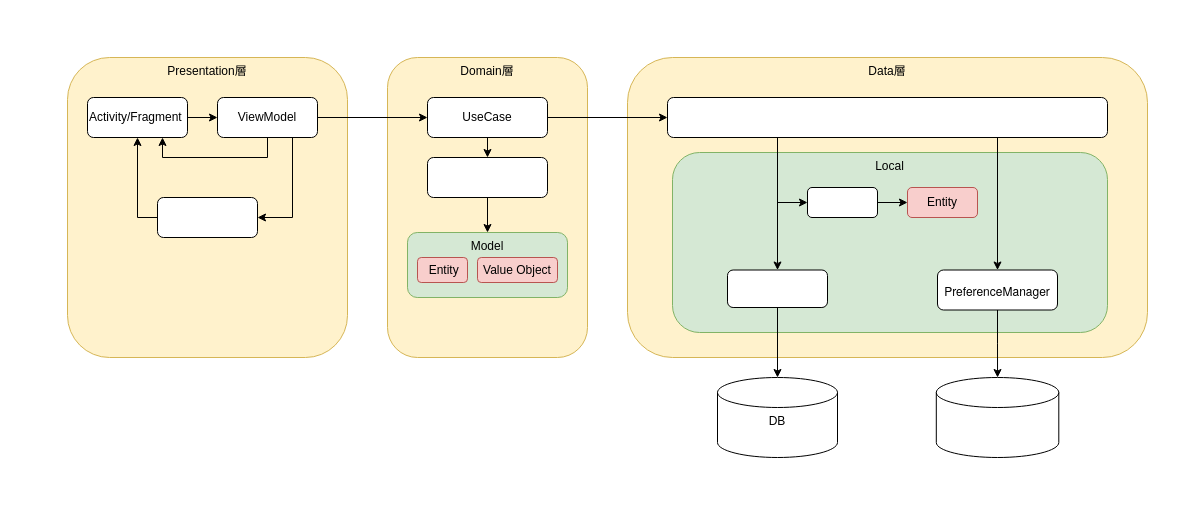
Some shapes in this 1204 by 514 pixel diagram are drawn without their labels. The shapes that lost their labels are listed below. From the top down, each one's centre as x and y in pixels, then its label:
At point (887, 117): "Repository".
At point (487, 177): "Translator".
At point (207, 217): "Dispatcher".
At point (842, 202): "Converter".
At point (777, 288): "Dao".
At point (997, 417): "SharedPreferences".
